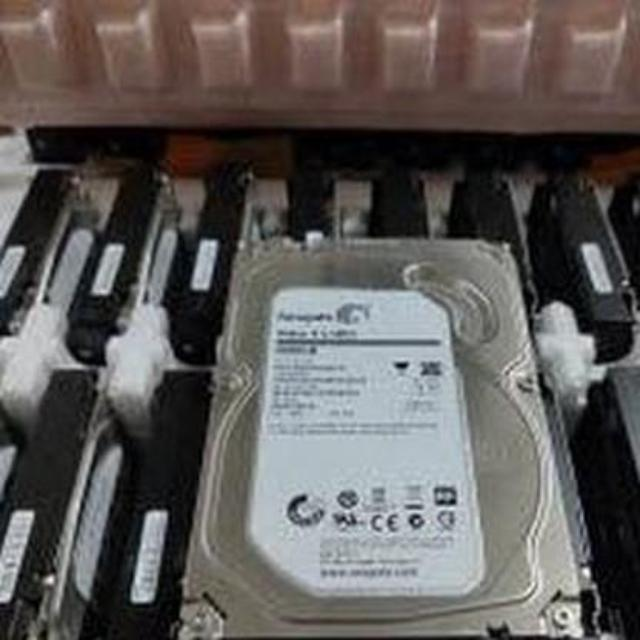DISK: (196, 231, 578, 640)
